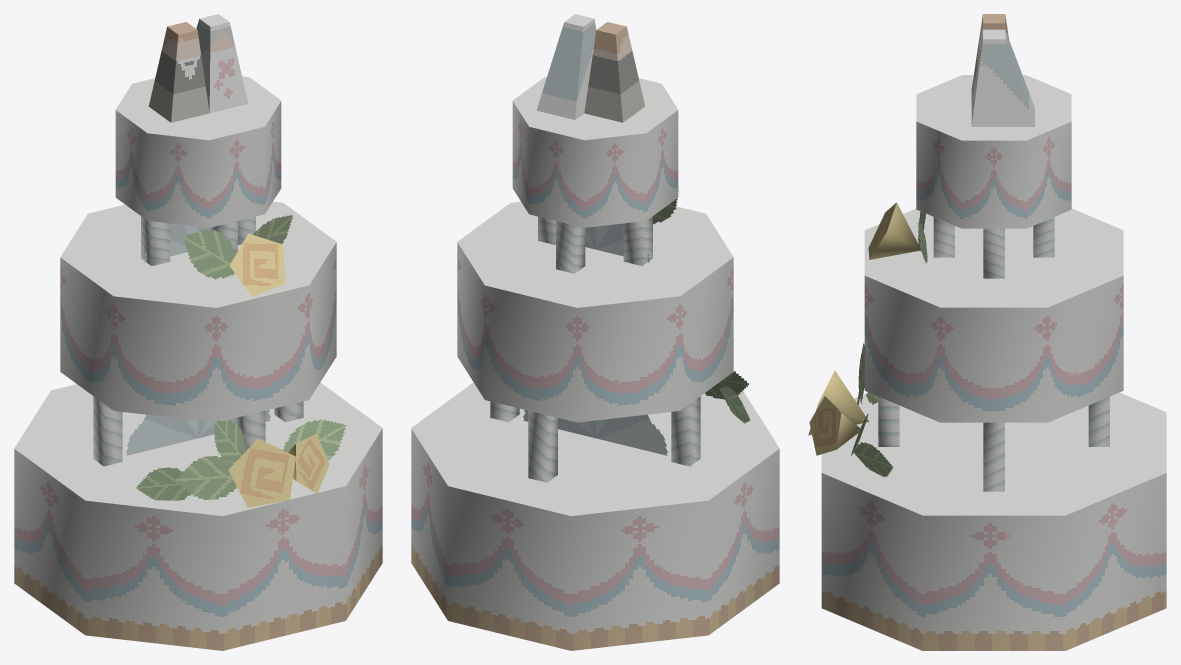
Rendered from 03c7_Wedding_Cake.glb.
3 renders of one model, left to right at view 1: azimuth 30°, elevation 25°; view 2: azimuth 150°, elevation 25°; view 3: azimuth 270°, elevation 25°, orthographic.
Parts seen in each view (by area): view 1: part_0; view 2: part_0; view 3: part_0.
Boxes of the visible parts, <box> form: part_0: <box>14,14,382,650</box>; part_0: <box>411,14,779,650</box>; part_0: <box>808,14,1166,650</box>.
Size of the model in its own units: 0.6236 by 1.1 by 0.6476.
Materials: 1 (1 with a texture image).
